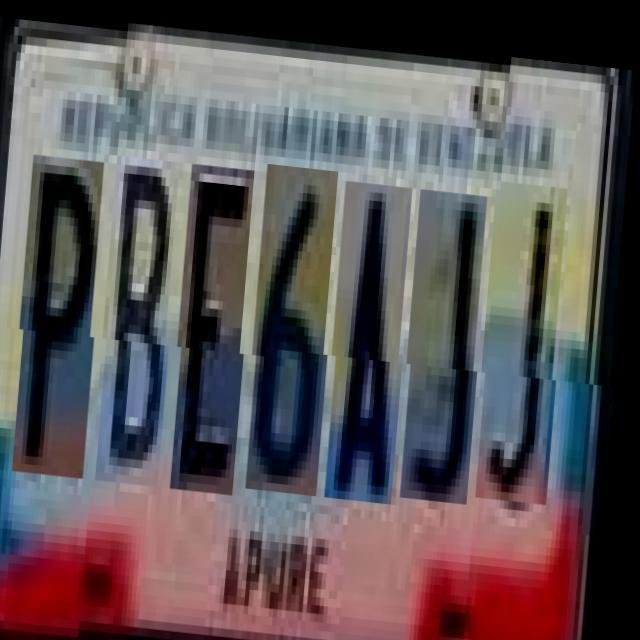6: (253, 158, 344, 488)
A: (332, 172, 420, 494)
B: (103, 154, 186, 482)
E: (178, 160, 261, 489)
J: (482, 178, 574, 500), (408, 180, 493, 492)
P: (20, 145, 111, 468)
